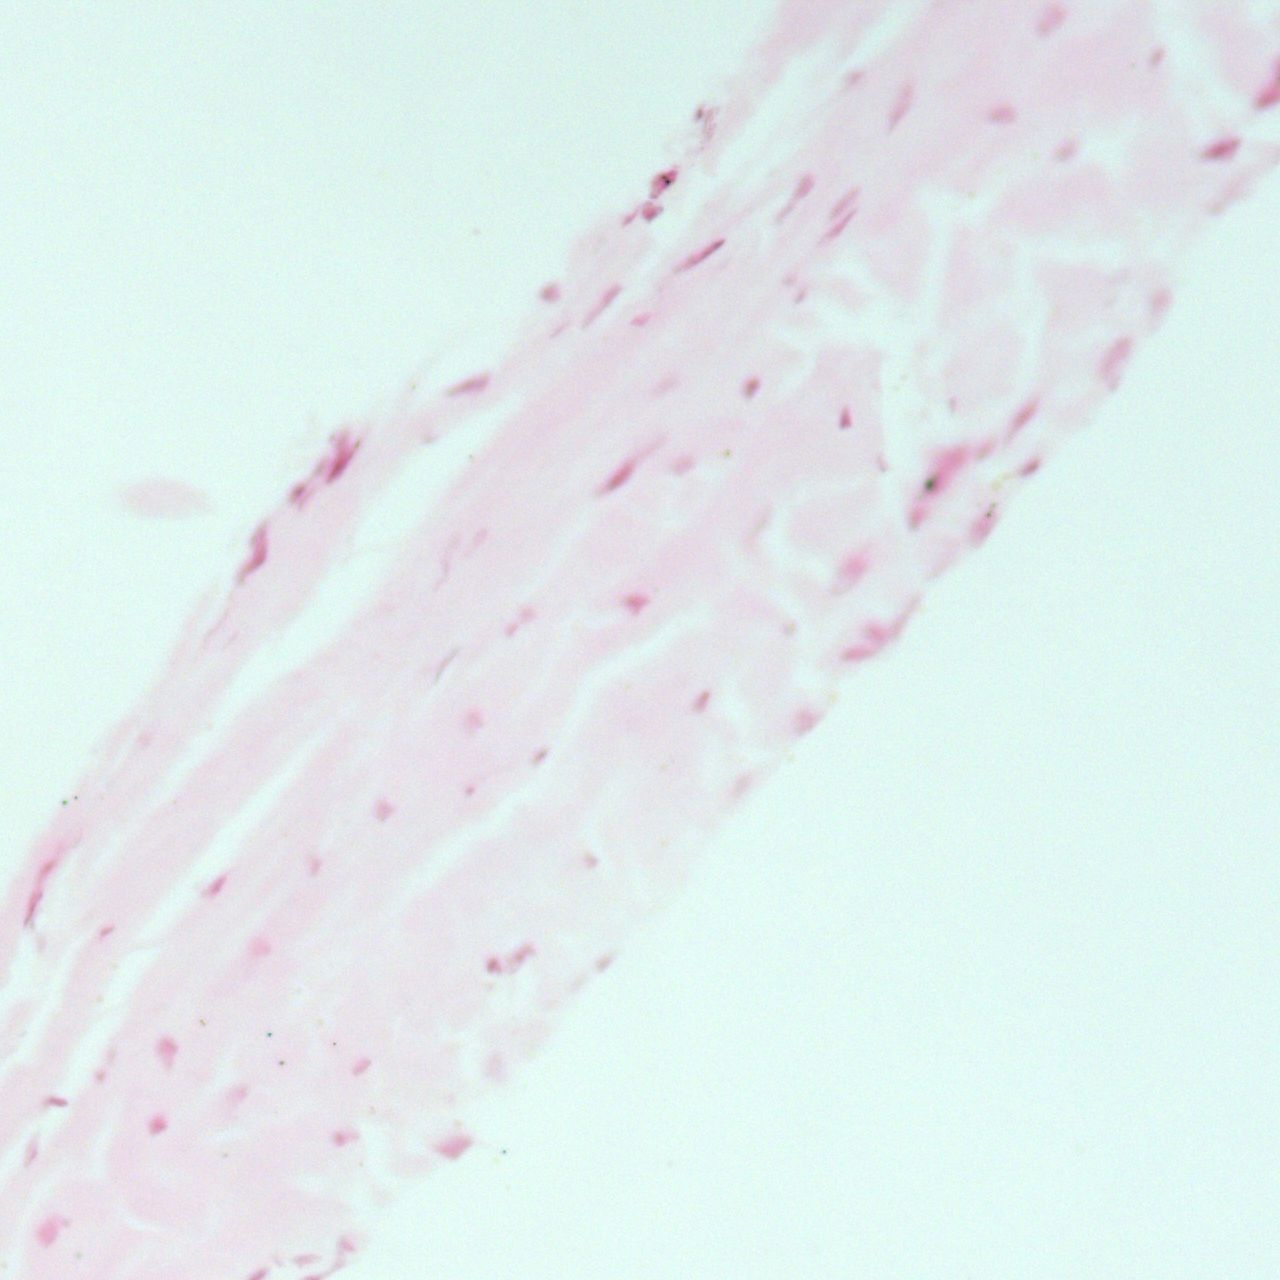dust: (922, 481, 935, 493), (72, 1251, 84, 1261), (222, 1151, 231, 1160), (501, 1148, 510, 1156), (368, 1104, 376, 1112), (96, 995, 103, 1005), (72, 792, 79, 802), (724, 449, 734, 456), (358, 1160, 366, 1167), (265, 1032, 273, 1037), (60, 798, 66, 806), (110, 962, 115, 972), (278, 1058, 284, 1065), (354, 441, 361, 447), (467, 454, 474, 459), (200, 1017, 205, 1026), (333, 1040, 338, 1047), (987, 510, 992, 517), (990, 502, 995, 508), (411, 383, 415, 389)
nucleus-AC: (893, 437, 971, 535), (231, 518, 282, 585), (1092, 335, 1137, 393), (578, 280, 627, 328), (595, 454, 644, 499), (673, 236, 728, 275), (774, 172, 817, 222), (318, 438, 359, 486), (881, 83, 920, 132), (1139, 284, 1178, 328), (818, 207, 860, 246), (443, 372, 492, 403), (1197, 134, 1244, 166), (826, 183, 863, 222), (644, 164, 680, 200), (835, 551, 870, 588), (787, 701, 822, 736), (1007, 399, 1039, 435), (967, 511, 999, 547), (16, 888, 45, 928), (433, 1133, 474, 1160), (503, 938, 535, 972), (18, 1135, 42, 1169), (200, 874, 229, 903), (651, 374, 681, 400), (840, 644, 881, 662), (284, 478, 309, 508), (690, 690, 715, 717), (862, 625, 899, 642), (152, 1039, 175, 1068), (350, 1053, 375, 1078), (465, 525, 488, 552), (488, 1054, 508, 1083), (433, 560, 452, 588), (988, 107, 1017, 125), (1054, 141, 1080, 162), (38, 1219, 57, 1246), (36, 859, 57, 883), (618, 207, 640, 229), (1149, 45, 1166, 69), (530, 747, 550, 767), (375, 799, 394, 821), (538, 282, 561, 299), (334, 1131, 361, 1145), (148, 1116, 168, 1135), (1020, 458, 1040, 477), (673, 457, 696, 472), (462, 712, 482, 729), (250, 939, 271, 955), (624, 595, 645, 612), (644, 203, 661, 222), (839, 407, 852, 429), (516, 606, 533, 621), (847, 72, 864, 87), (594, 958, 612, 972), (629, 313, 649, 325), (584, 853, 599, 869), (744, 380, 757, 397), (46, 1097, 70, 1105), (462, 785, 476, 799), (308, 860, 321, 876), (486, 960, 499, 974), (98, 926, 114, 937), (505, 621, 516, 635), (796, 291, 805, 305), (949, 399, 956, 414)
